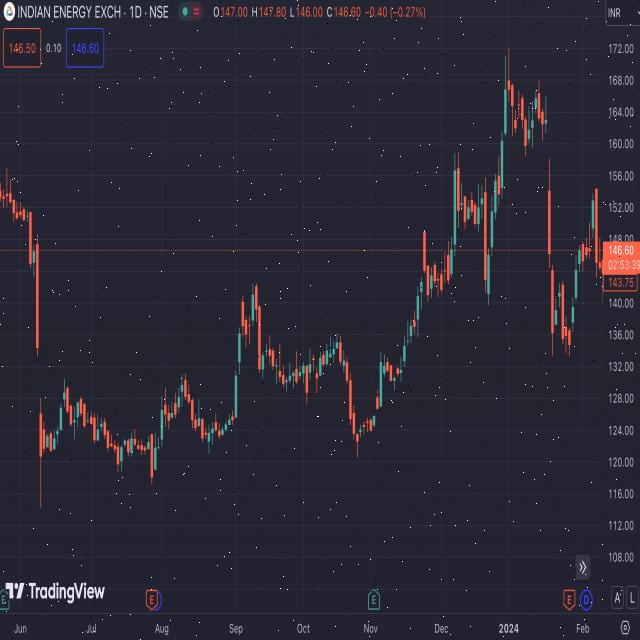Gap Down: (34, 220, 48, 528), (542, 82, 556, 278)
Gap Up: (372, 381, 382, 440)
